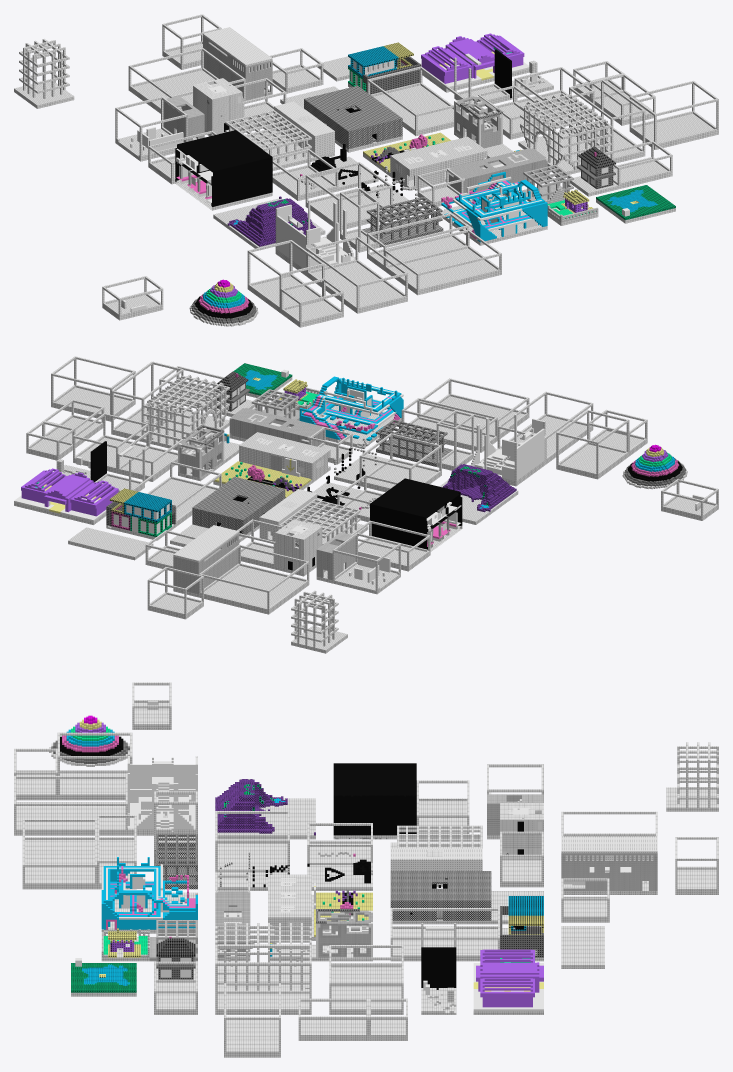
Rendered from Scripting-v2.glb.
3 views of the same model, one above another, from view 1: azimuth 30°, elevation 25°; view 2: azimuth 150°, elevation 25°; view 3: azimuth 270°, elevation 25° (orthographic). The views are drawn at different scales.
Parts seen in each view (by area): view 1: solid-voxels_50.017; view 2: solid-voxels_50.017; view 3: solid-voxels_50.017.
Part boxes in pixels (x1,y1,x2,y2): solid-voxels_50.017: (14, 14, 718, 327); solid-voxels_50.017: (14, 356, 718, 653); solid-voxels_50.017: (14, 682, 718, 1057).
Size of the model in its own units: 190 by 13 by 161.
Materials: 1 (1 with a texture image).
